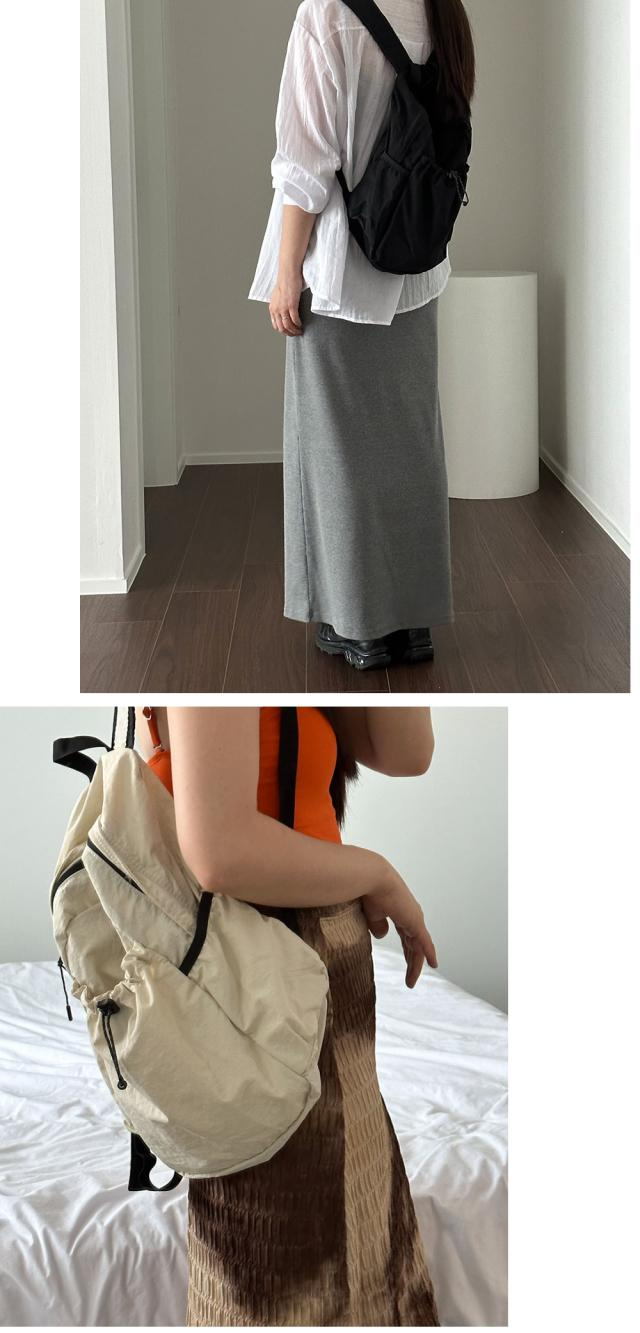backpack: (11, 722, 355, 1172)
